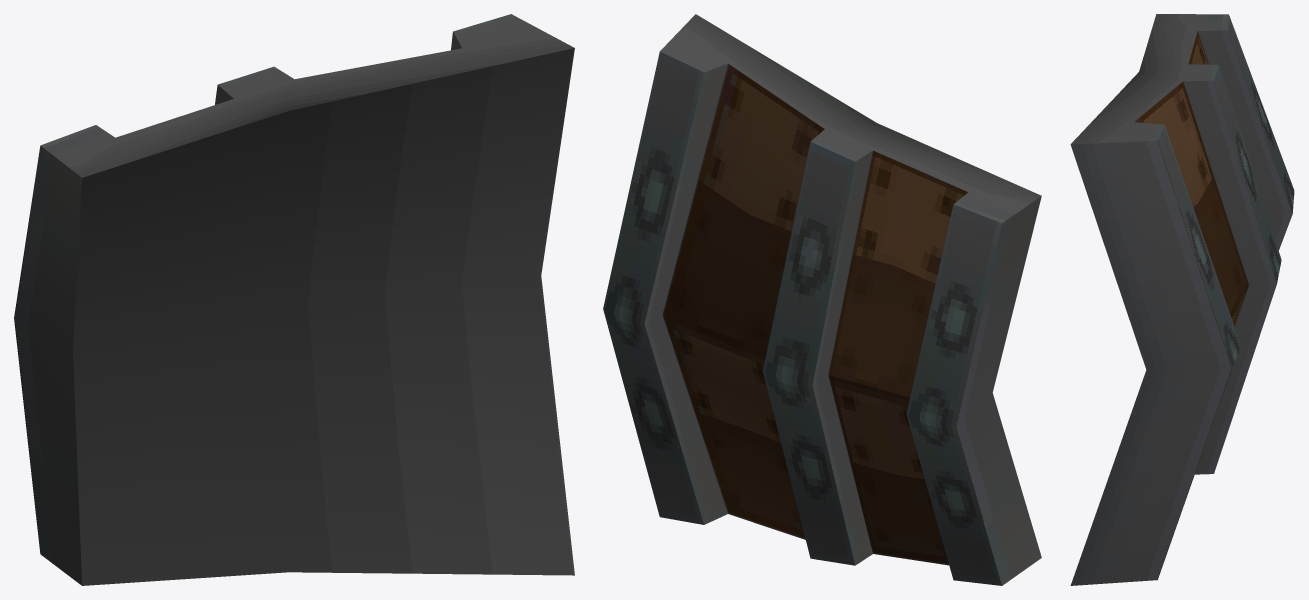
The model's file is shoulder_r.fbx.
3 views of the same model, side by side, from view 1: azimuth 30°, elevation 25°; view 2: azimuth 150°, elevation 25°; view 3: azimuth 270°, elevation 25° (orthographic). The views are drawn at different scales.
Parts seen in each view (by area): view 1: shoulders; view 2: shoulders; view 3: shoulders.
Part boxes in pixels (x1,y1,x2,y2): shoulders: (14,14,574,585); shoulders: (603,14,1041,585); shoulders: (1070,14,1294,585).
Size of the model in its own units: 0.4266 by 0.4745 by 0.2181.
